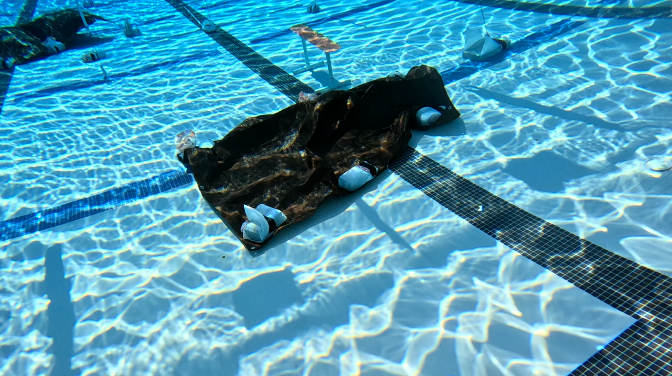pathmarker: (290, 24, 339, 51)
sandbag: (176, 64, 460, 251), (0, 9, 109, 69)
